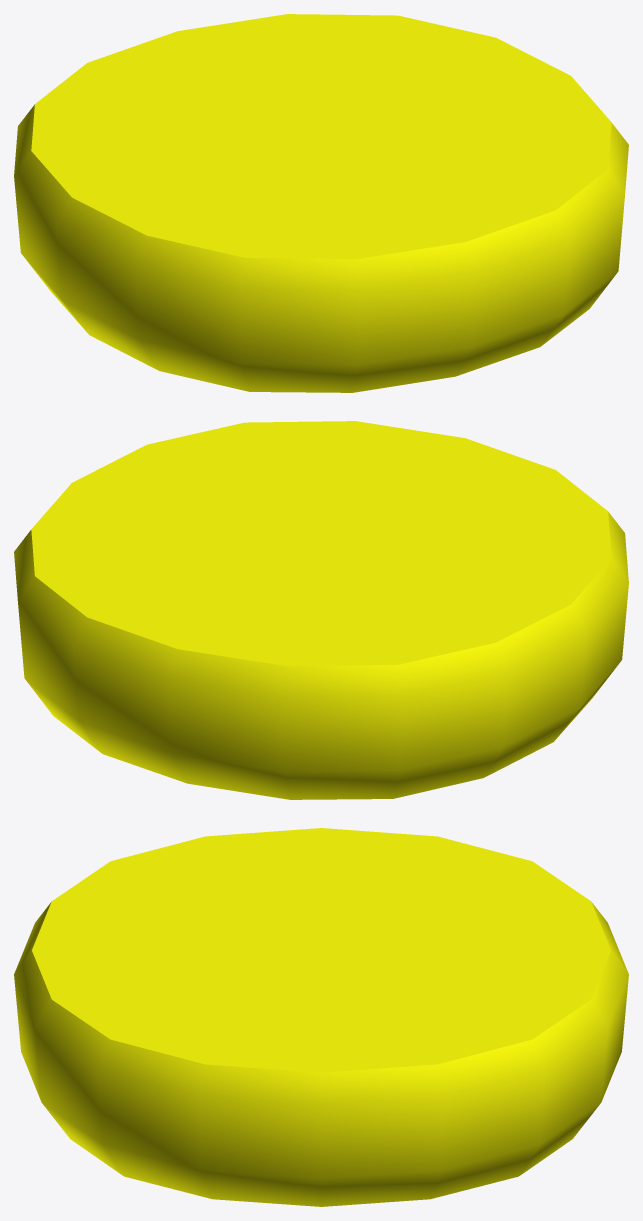
The model's file is kaykit-food-ingredient-bun-bottom.glb.
3 renders of one model, top to bottom at view 1: azimuth 30°, elevation 25°; view 2: azimuth 150°, elevation 25°; view 3: azimuth 270°, elevation 25°, orthographic.
Parts seen in each view (by area): view 1: food_ingredient_bun_bottom; view 2: food_ingredient_bun_bottom; view 3: food_ingredient_bun_bottom.
Boxes of the visible parts, <box> form: food_ingredient_bun_bottom: <box>14,14,628,392</box>; food_ingredient_bun_bottom: <box>14,421,628,799</box>; food_ingredient_bun_bottom: <box>14,828,628,1206</box>.
Size of the model in its own units: 0.6938 by 0.2 by 0.6938.
